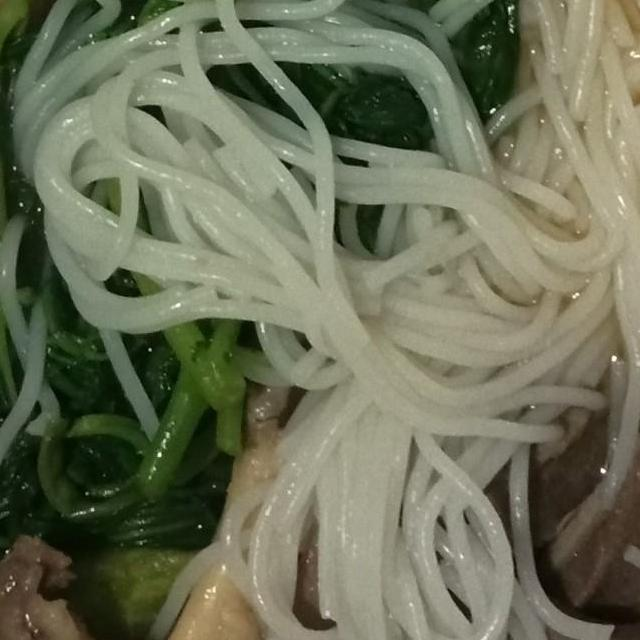bun: (6, 0, 615, 450), (192, 375, 619, 640), (383, 0, 640, 423)
